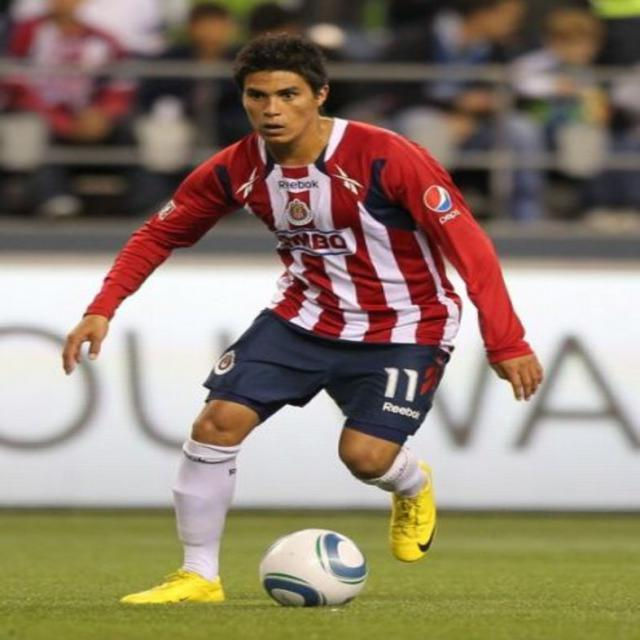football: (256, 520, 380, 619)
